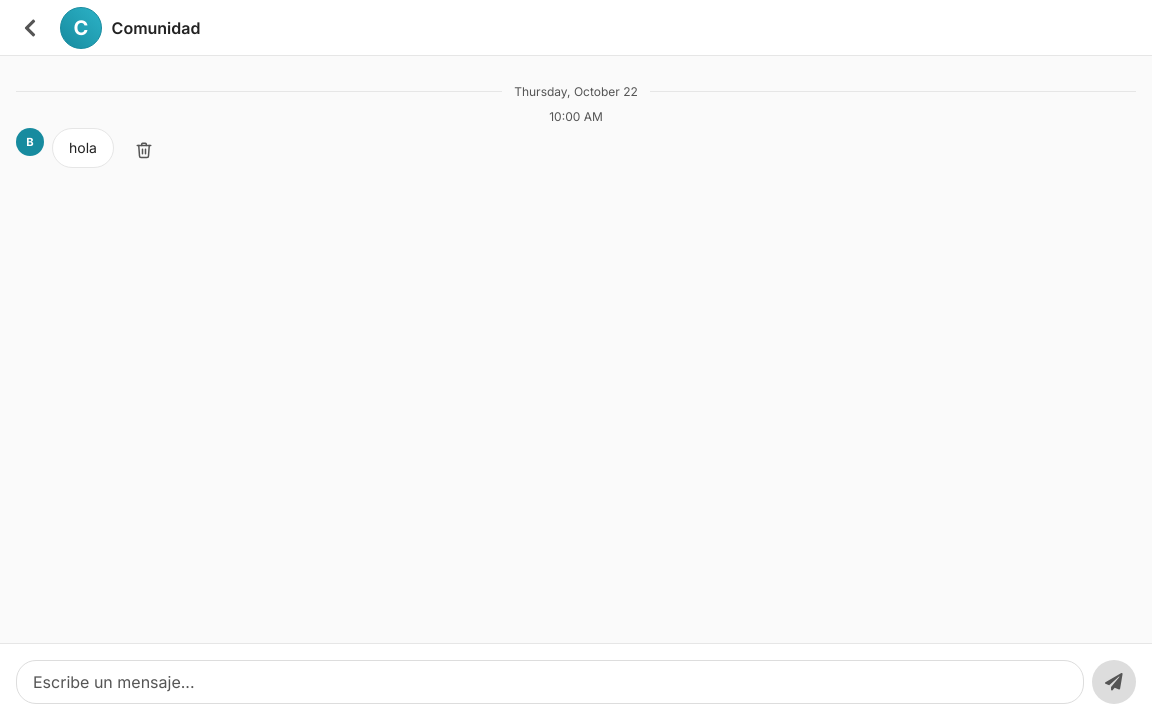
Test case: Messages (BUG-052) › moderation delete (T20d) › shows the server reason when the hierarchy forbids it
The width and height of the screenshot is (1152, 720).
What coordinates should you click on to do the following:
click the button named "Eliminar mensaje de bea"
I would click on:
 (144, 150)
Its box is [122, 128, 166, 172].
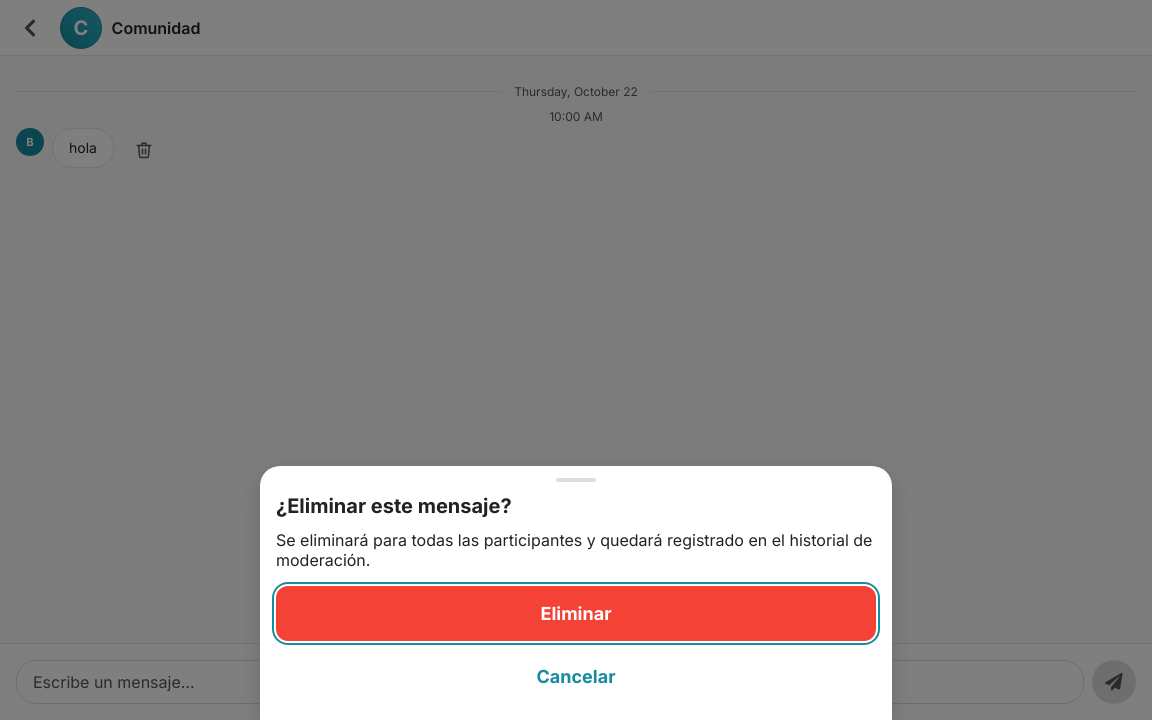
What coordinates should you click on to do the following:
click the button "Eliminar"
I would click on:
 (576, 614)
Its box is [276, 586, 876, 641].
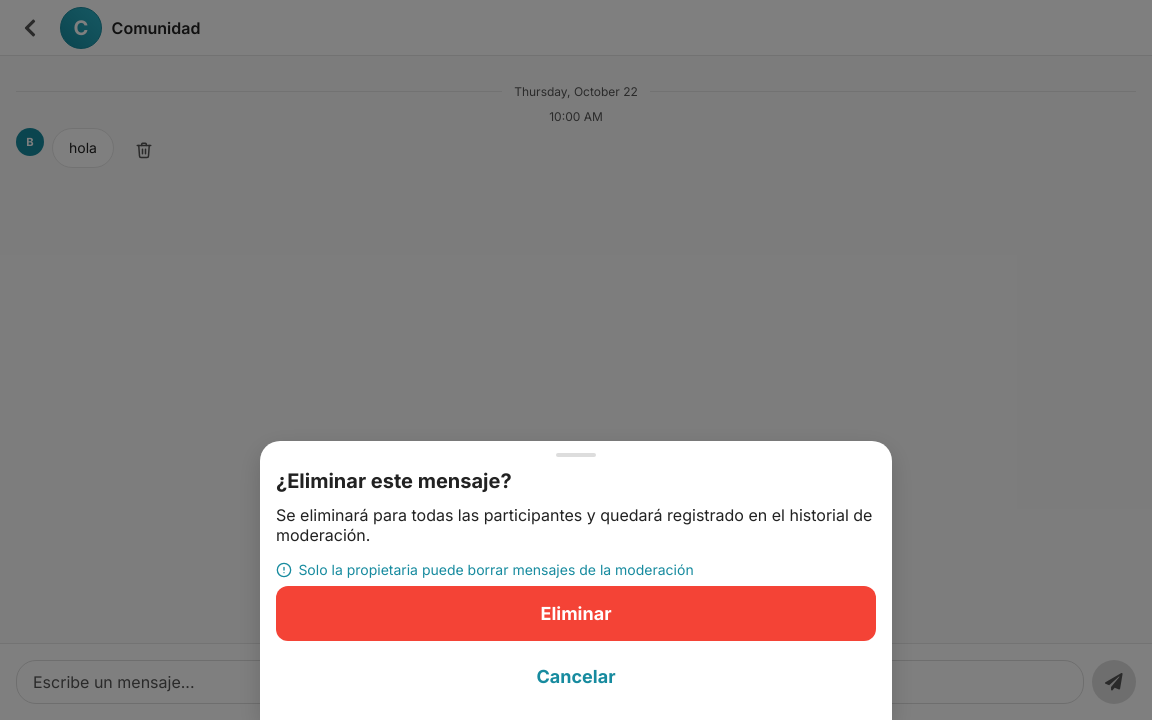
Result: the text "Solo la propietaria puede borrar mensajes de la moderación" is shown at [276, 561, 694, 578]
